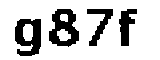7: (86, 6, 116, 50)
8: (49, 6, 82, 50)
f: (119, 6, 139, 50)
g: (10, 15, 46, 60)
